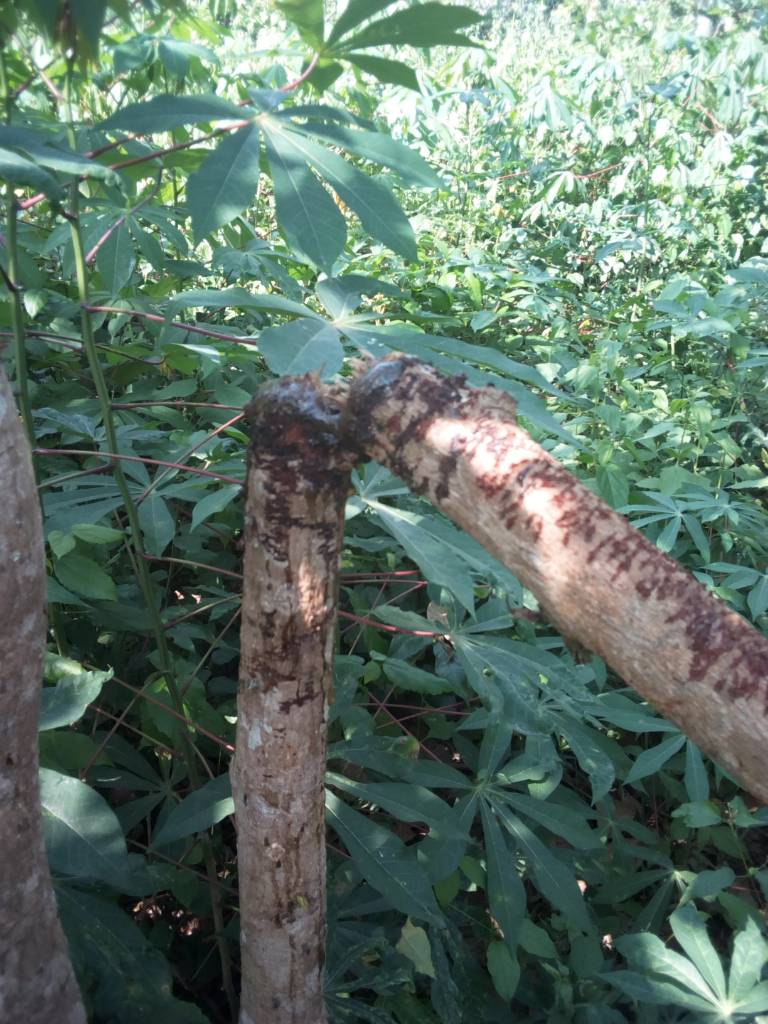Analepse trifasciata: (229, 344, 444, 488)
